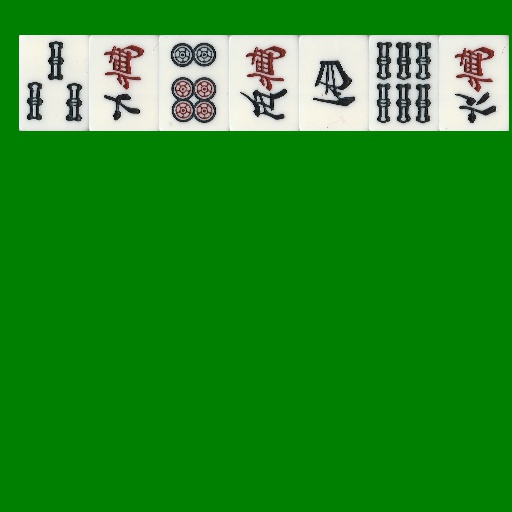3s: (19, 35, 89, 131)
5m: (229, 35, 299, 131)
6m: (439, 35, 509, 131)
6p: (159, 35, 229, 131)
6s: (369, 35, 439, 131)
7m: (89, 35, 159, 131)
west: (299, 35, 369, 131)
